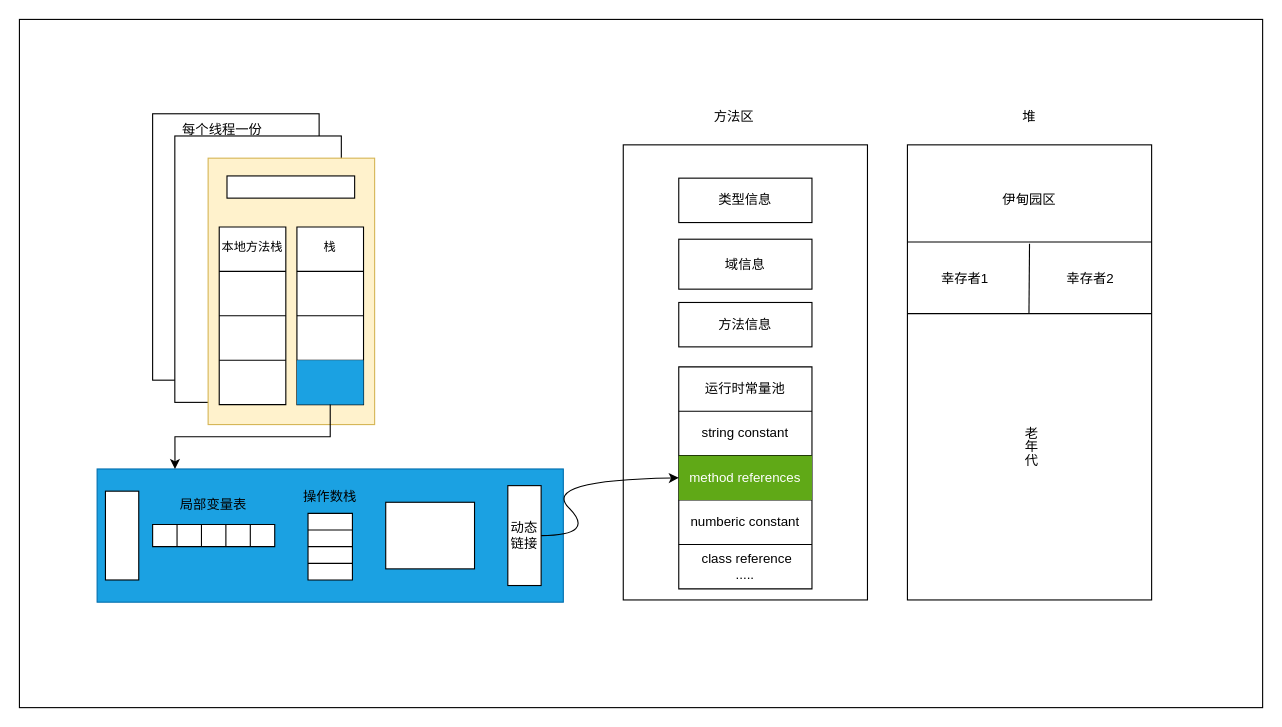
Image size: 1282x727. Some labels were removed from this diagram. Each missing label, with the centre of its shape:
方法返回地址: (430,535)
程序计数器: (290,186)
额外信息: (121,535)
